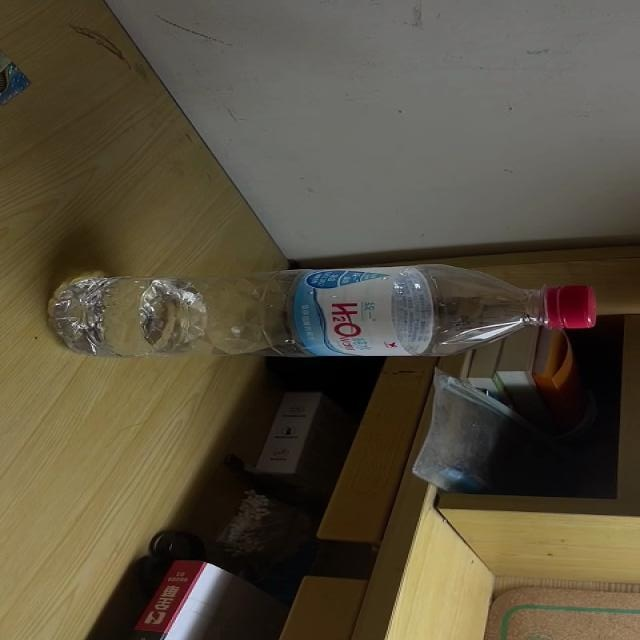Water: (43, 266, 597, 358)
